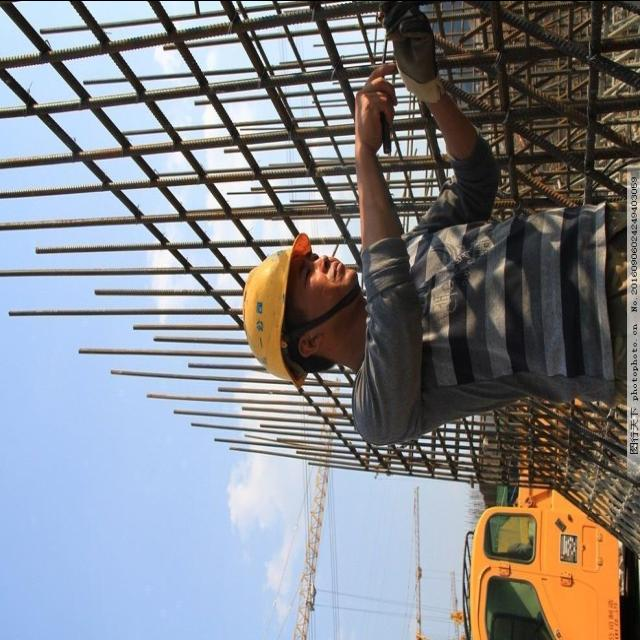helmet: (240, 226, 312, 406)
